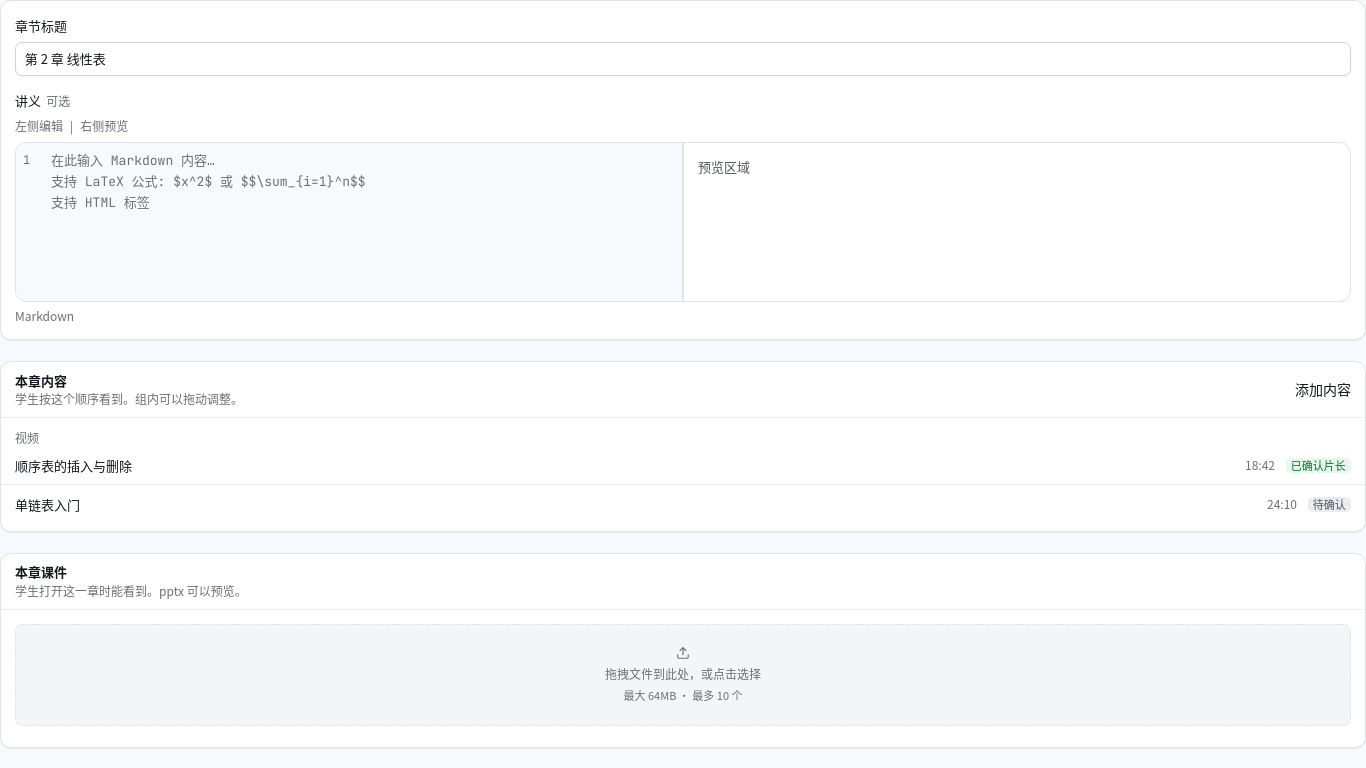
chapter panel › opens the chapter video sheet with the existing editor
Click the text "顺序表的插入与删除" at (74, 465), box x1=15 y1=456 x2=132 y2=475
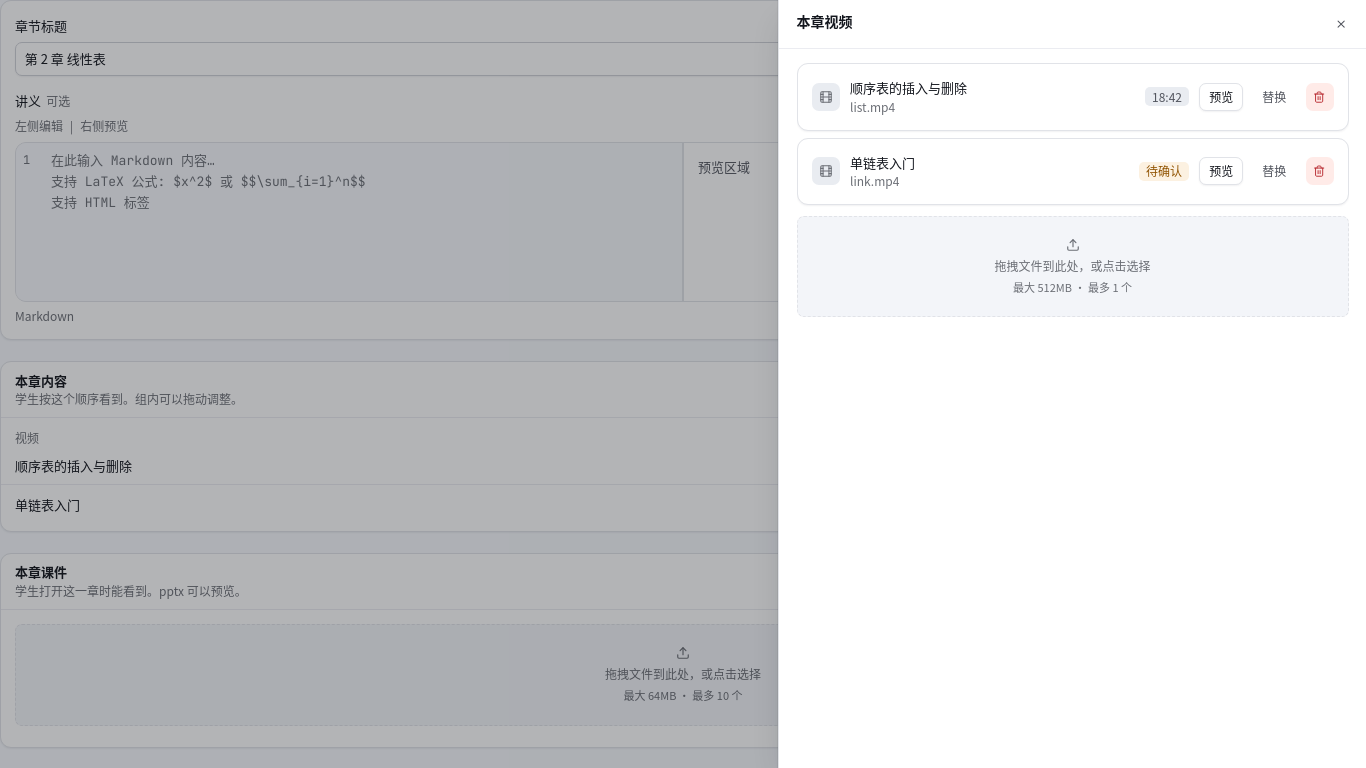
Check: the text "list.mp4" is shown, box x1=850 y1=98 x2=895 y2=114
Check: the text "link.mp4" is shown, box x1=850 y1=172 x2=899 y2=189
